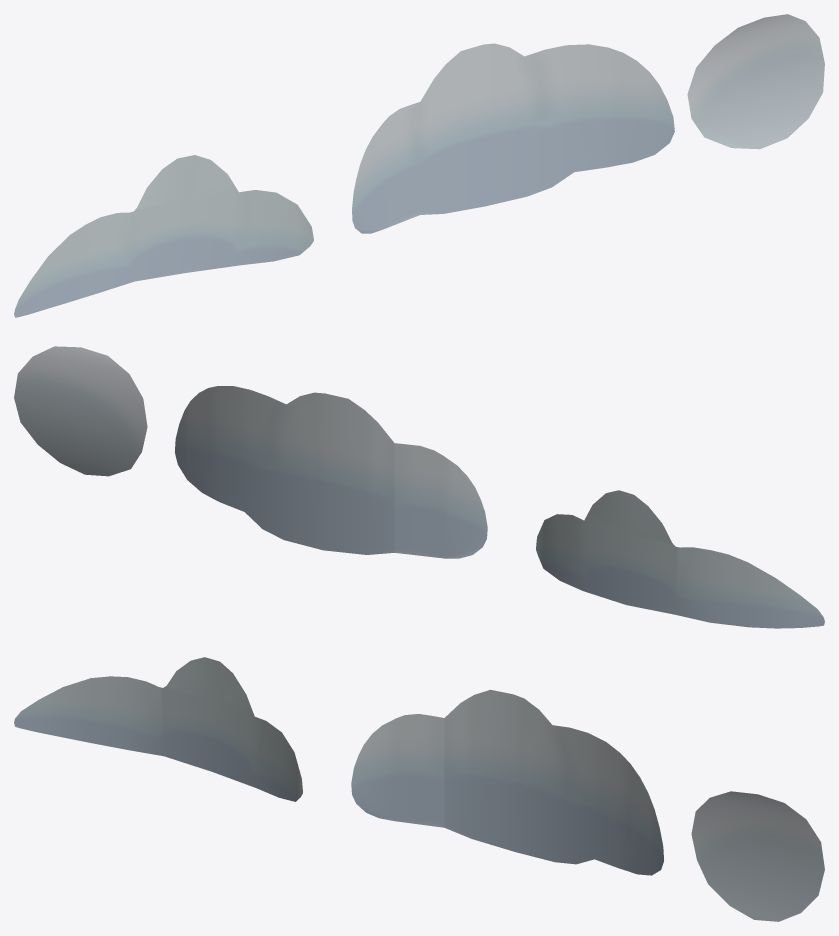
The model's file is M_ST_ENV_Clouds.fbx.
The picture shows the model from 3 angles, top to bottom: view 1: azimuth 30°, elevation 25°; view 2: azimuth 150°, elevation 25°; view 3: azimuth 330°, elevation 25°; orthographic projection. The views are drawn at different scales.
Visible parts, largest first — view 1: Cloud2, Cloud1, Cloud3; view 2: Cloud2, Cloud1, Cloud3; view 3: Cloud2, Cloud1, Cloud3.
Part boxes in pixels (left/top/right/bottom): Cloud2: left=352, top=43, right=674, bottom=233; Cloud1: left=14, top=155, right=313, bottom=317; Cloud3: left=687, top=14, right=824, bottom=149; Cloud2: left=175, top=386, right=487, bottom=558; Cloud1: left=536, top=490, right=824, bottom=628; Cloud3: left=14, top=346, right=147, bottom=476; Cloud2: left=351, top=689, right=663, bottom=875; Cloud1: left=14, top=657, right=302, bottom=801; Cloud3: left=691, top=791, right=824, bottom=921.
Size of the model in its own units: 4.81 by 0.9063 by 0.2436.
1 material, 1 textured.
